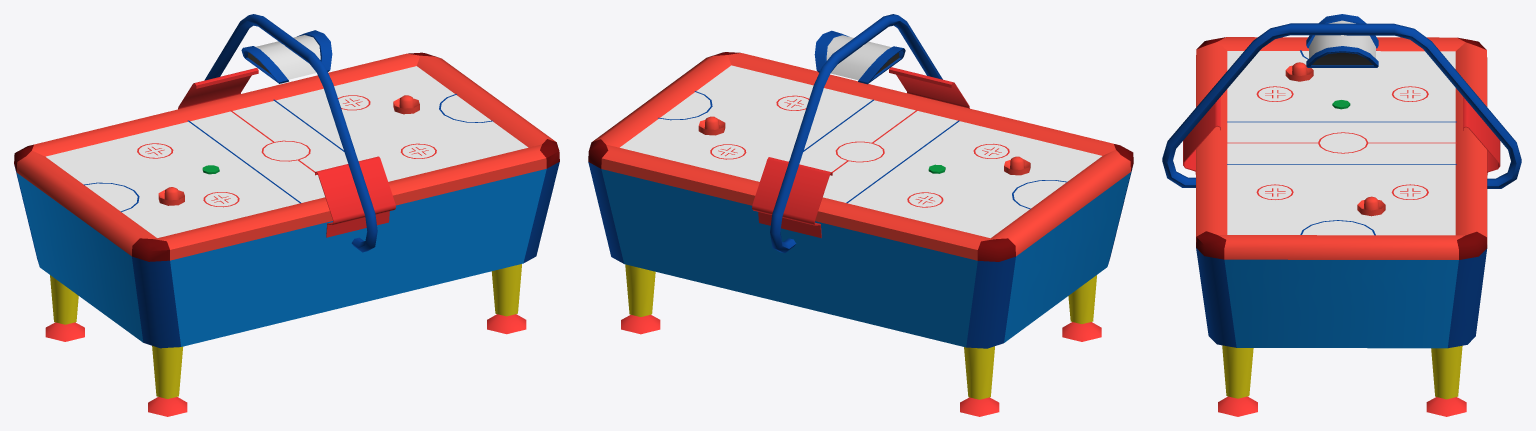
Rendered from stadium smashed2.fbx.
3 views of the same model, side by side, from view 1: azimuth 30°, elevation 25°; view 2: azimuth 150°, elevation 25°; view 3: azimuth 270°, elevation 25° (orthographic).
Visible parts, largest first — view 1: air_hockey_001.027, air_hockey_001.016, air_hockey_001.024, air_hockey_001.026, air_hockey_001.016_cell, air_hockey_001.025, air_hockey_001.016_cell.001, air_hockey_001.004, air_hockey_001.001, air_hockey_001.023, air_hockey_001.003, air_hockey_001.007 (+5 smaller); view 2: air_hockey_001.027, air_hockey_001.016, air_hockey_001.024, air_hockey_001.026, air_hockey_001.016_cell, air_hockey_001.025, air_hockey_001.016_cell.001, air_hockey_001.004, air_hockey_001.002, air_hockey_001.023, air_hockey_001.003, air_hockey_001.008 (+4 smaller); view 3: air_hockey_001.028, air_hockey_001.016, air_hockey_001.016_cell.002, air_hockey_001.024, air_hockey_001.016_cell, air_hockey_001.023, air_hockey_001.004, air_hockey_001.016_cell.001, air_hockey_001.003, air_hockey_001.025, air_hockey_001.006, air_hockey_001.005 (+5 smaller).
Part boxes in pixels (x1=…): air_hockey_001.027: x1=170, y1=169, x2=546, y2=346; air_hockey_001.016: x1=119, y1=66, x2=528, y2=237; air_hockey_001.024: x1=32, y1=53, x2=546, y2=260; air_hockey_001.026: x1=14, y1=166, x2=180, y2=348; air_hockey_001.016_cell: x1=46, y1=99, x2=280, y2=213; air_hockey_001.025: x1=14, y1=144, x2=169, y2=261; air_hockey_001.016_cell.001: x1=309, y1=66, x2=518, y2=140; air_hockey_001.004: x1=204, y1=14, x2=377, y2=252; air_hockey_001.001: x1=315, y1=156, x2=395, y2=237; air_hockey_001.023: x1=408, y1=52, x2=559, y2=168; air_hockey_001.003: x1=241, y1=30, x2=332, y2=83; air_hockey_001.007: x1=148, y1=345, x2=187, y2=416; air_hockey_001.027: x1=601, y1=169, x2=977, y2=347; air_hockey_001.016: x1=705, y1=65, x2=1101, y2=237; air_hockey_001.024: x1=601, y1=53, x2=1115, y2=260; air_hockey_001.026: x1=966, y1=166, x2=1132, y2=348; air_hockey_001.016_cell: x1=755, y1=180, x2=1067, y2=238; air_hockey_001.025: x1=977, y1=144, x2=1133, y2=261; air_hockey_001.016_cell.001: x1=620, y1=72, x2=727, y2=173; air_hockey_001.004: x1=770, y1=14, x2=942, y2=252; air_hockey_001.002: x1=752, y1=157, x2=832, y2=238; air_hockey_001.023: x1=588, y1=52, x2=740, y2=168; air_hockey_001.003: x1=814, y1=30, x2=905, y2=84; air_hockey_001.008: x1=960, y1=346, x2=999, y2=416; air_hockey_001.028: x1=1196, y1=248, x2=1487, y2=348; air_hockey_001.016: x1=1227, y1=51, x2=1455, y2=234; air_hockey_001.016_cell.002: x1=1228, y1=51, x2=1455, y2=234; air_hockey_001.024: x1=1196, y1=42, x2=1487, y2=244; air_hockey_001.016_cell: x1=1297, y1=51, x2=1455, y2=168; air_hockey_001.023: x1=1196, y1=231, x2=1487, y2=259; air_hockey_001.004: x1=1162, y1=23, x2=1521, y2=188; air_hockey_001.016_cell.001: x1=1248, y1=182, x2=1455, y2=235; air_hockey_001.003: x1=1306, y1=14, x2=1378, y2=67; air_hockey_001.025: x1=1196, y1=37, x2=1486, y2=51; air_hockey_001.006: x1=1426, y1=345, x2=1466, y2=416; air_hockey_001.005: x1=1218, y1=345, x2=1257, y2=416.
Size of the model in its own units: 206 by 135 by 148.
1 material, 1 textured.
